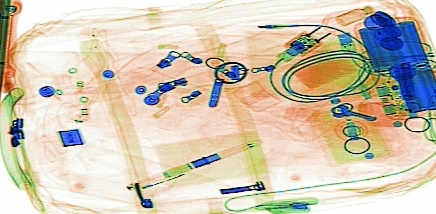powerbank: (351, 15, 434, 121)
